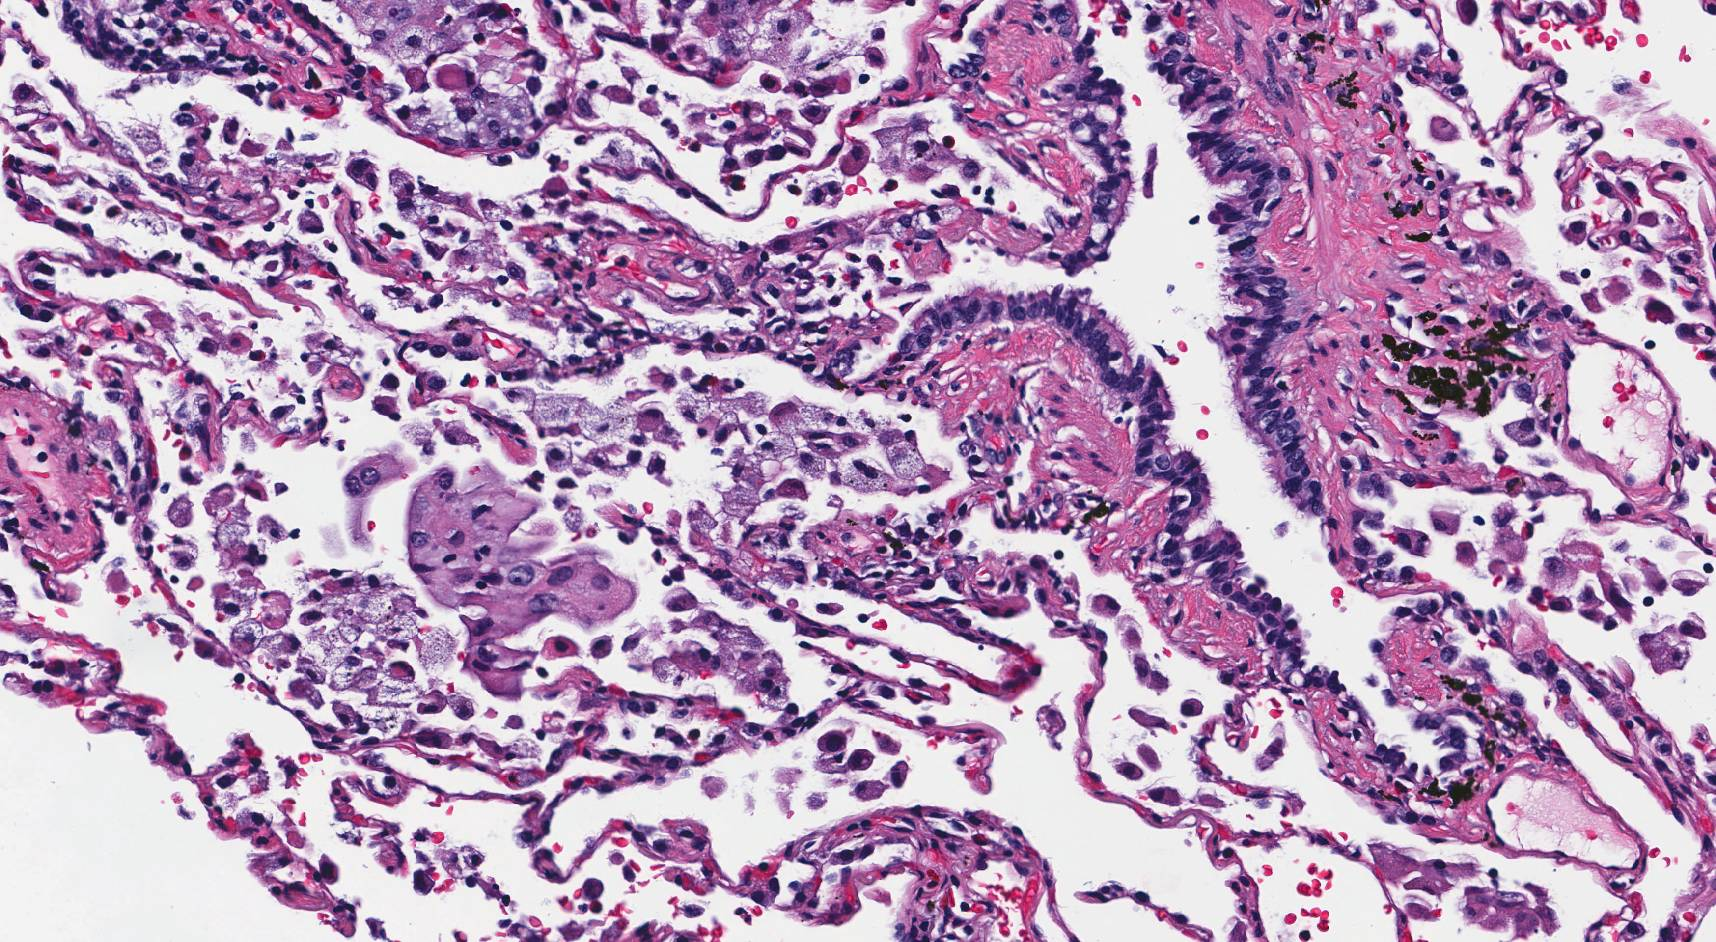stas: (403, 466, 633, 698), (338, 451, 406, 494)
